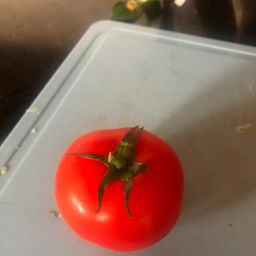Tomato: (46, 117, 194, 255)
